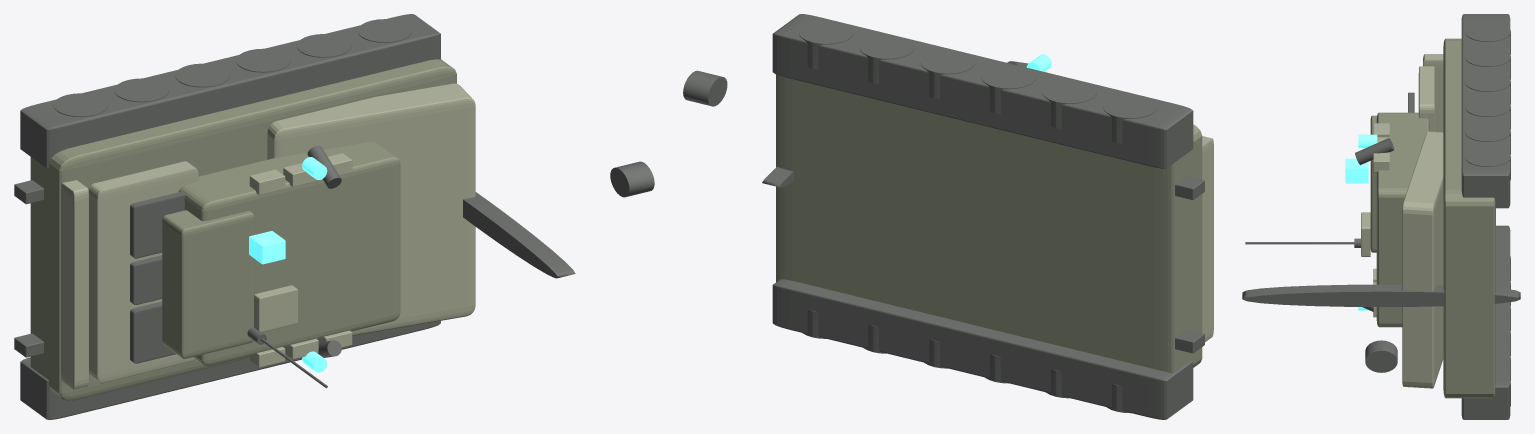
The model's file is v-u13-vanguard-main-battle-tank-lod1.glb.
3 views of the same model, side by side, from view 1: azimuth 30°, elevation 25°; view 2: azimuth 150°, elevation 25°; view 3: azimuth 270°, elevation 25° (orthographic). The views are drawn at different scales.
Parts seen in each view (by area): view 1: turret_yaw, glacis, hull_lower, track_left, turret_bustle, engine_deck, rear_armor, track_right, gun_pitch, engine_grille_03, engine_grille_01, loader_hatch (+11 smaller); view 2: hull_lower, track_left, track_right, rear_armor, wheel_l_6, wheel_l_3, wheel_l_4, wheel_l_2, wheel_l_1, wheel_l_5, muzzle, tow_hook_right (+1 smaller); view 3: hull_lower, glacis, turret_yaw, track_left, gun_pitch, track_right, engine_deck, muzzle, rear_armor, wheel_l_6, wheel_l_1, wheel_l_2 (+9 smaller).
Part boxes in pixels (x1,y1,x2,y2): turret_yaw: (178,142,400,365); glacis: (267,83,475,335); hull_lower: (30,59,456,400); track_left: (20,14,440,168); turret_bustle: (162,210,254,358); engine_deck: (88,161,198,383); rear_armor: (61,180,88,389); track_right: (20,321,440,419); gun_pitch: (463,192,575,278); engine_grille_03: (130,191,185,258); engine_grille_01: (130,301,175,363); loader_hatch: (254,285,298,332); hull_lower: (776,74,1202,373); track_left: (772,14,1193,168); track_right: (772,279,1193,419); rear_armor: (1202,136,1213,341); wheel_l_6: (799,21,853,69); wheel_l_3: (981,65,1035,114); wheel_l_4: (920,50,975,99); wheel_l_2: (1042,80,1096,128); wheel_l_1: (1103,95,1157,143); wheel_l_5: (859,35,914,84); muzzle: (683,70,727,106); tow_hook_right: (1175,329,1204,353); hull_lower: (1443,38,1495,398); glacis: (1402,131,1443,388); turret_yaw: (1376,112,1429,327); track_left: (1461,14,1510,208); gun_pitch: (1242,284,1520,306); track_right: (1461,225,1510,419); engine_deck: (1418,66,1434,131); muzzle: (1365,340,1397,372); rear_armor: (1423,54,1443,132); wheel_l_6: (1465,147,1510,180); wheel_l_1: (1465,22,1510,54); wheel_l_2: (1465,47,1510,79).
Size of what is drawn, in the model's own units: 8.11 by 4.04 by 4.1.
